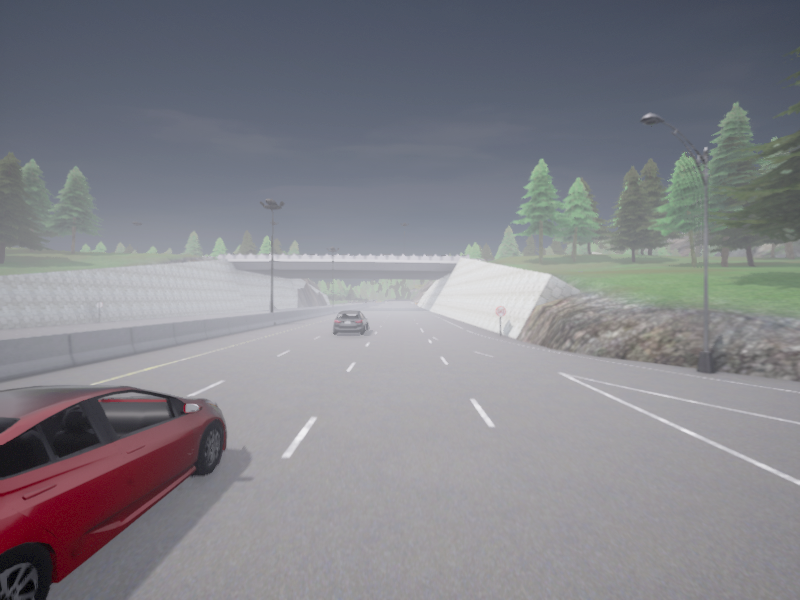vehicle: (0, 385, 226, 599), (333, 310, 368, 334)
